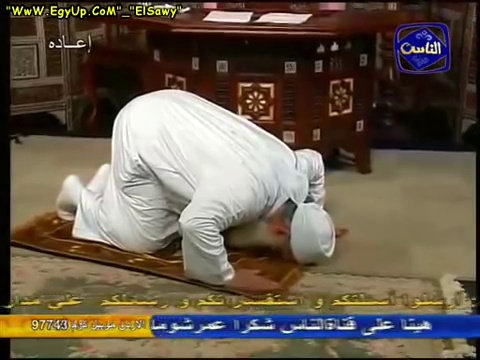sujud: (56, 89, 334, 296)
